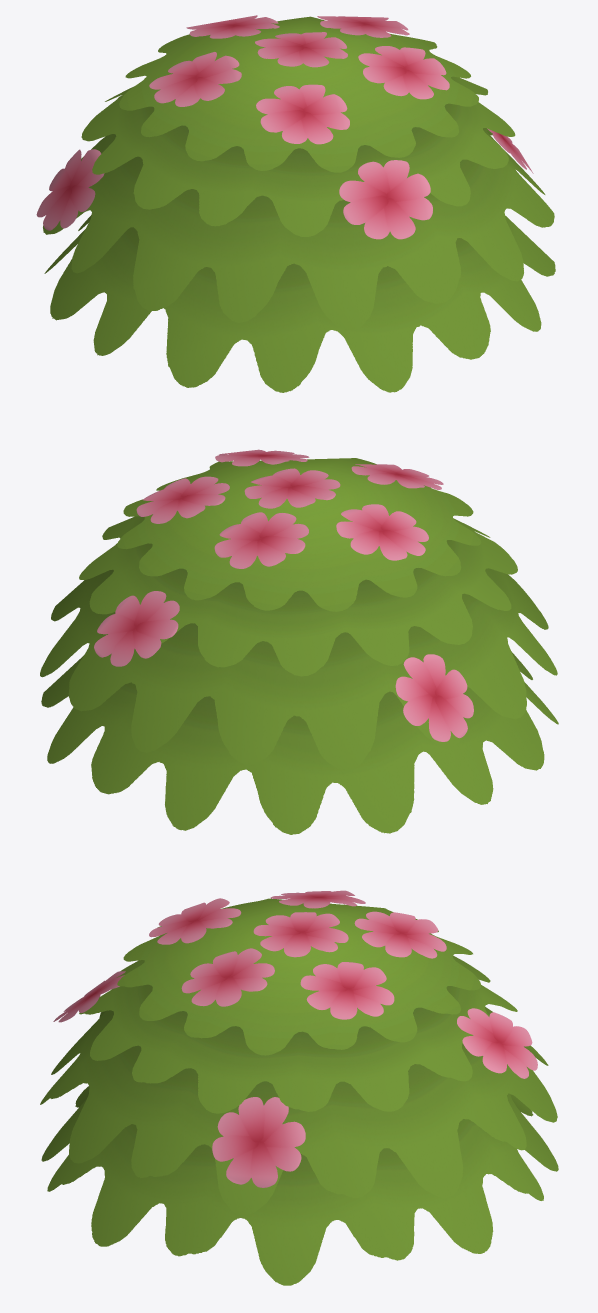
The model's file is plant_3.fbx.
The picture shows the model from 3 angles, top to bottom: view 1: azimuth 30°, elevation 25°; view 2: azimuth 150°, elevation 25°; view 3: azimuth 270°, elevation 25°; orthographic projection.
Visible parts, largest first — view 1: Plant_3; view 2: Plant_3; view 3: Plant_3.
Boxes of the visible parts, bbox=[...] form: Plant_3: bbox=[36, 15, 555, 392]; Plant_3: bbox=[40, 449, 558, 834]; Plant_3: bbox=[40, 890, 558, 1285].
Size of the model in its own units: 212 by 105 by 212.
